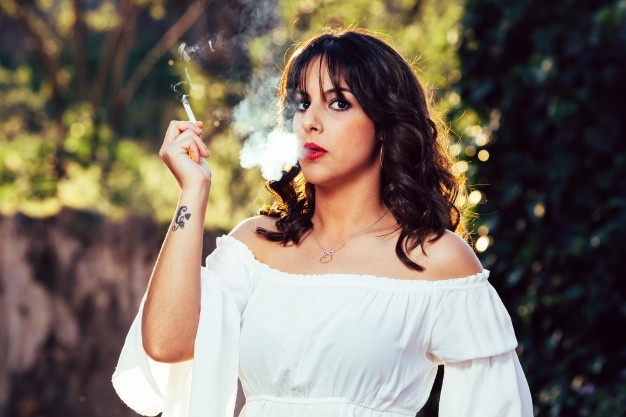sigaretta: (172, 92, 212, 141)
